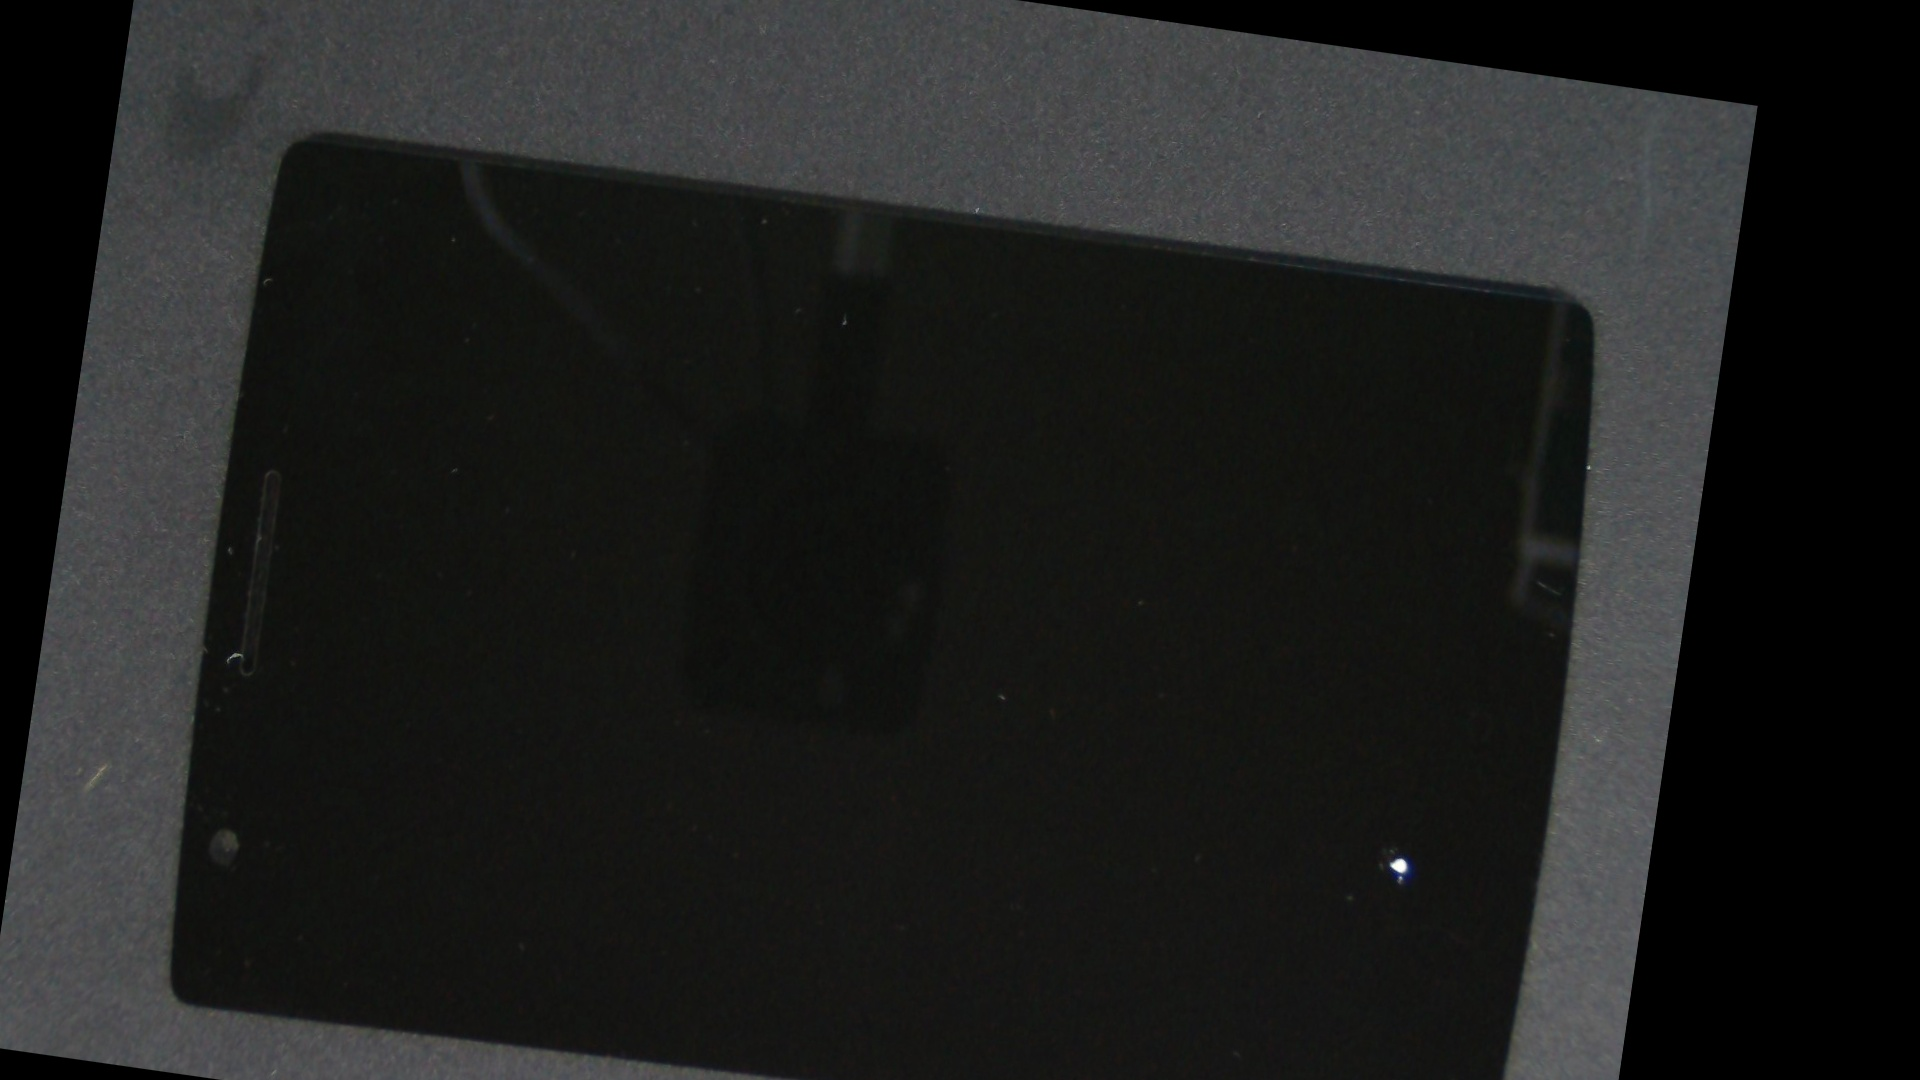oil: (666, 365, 1701, 1080)
